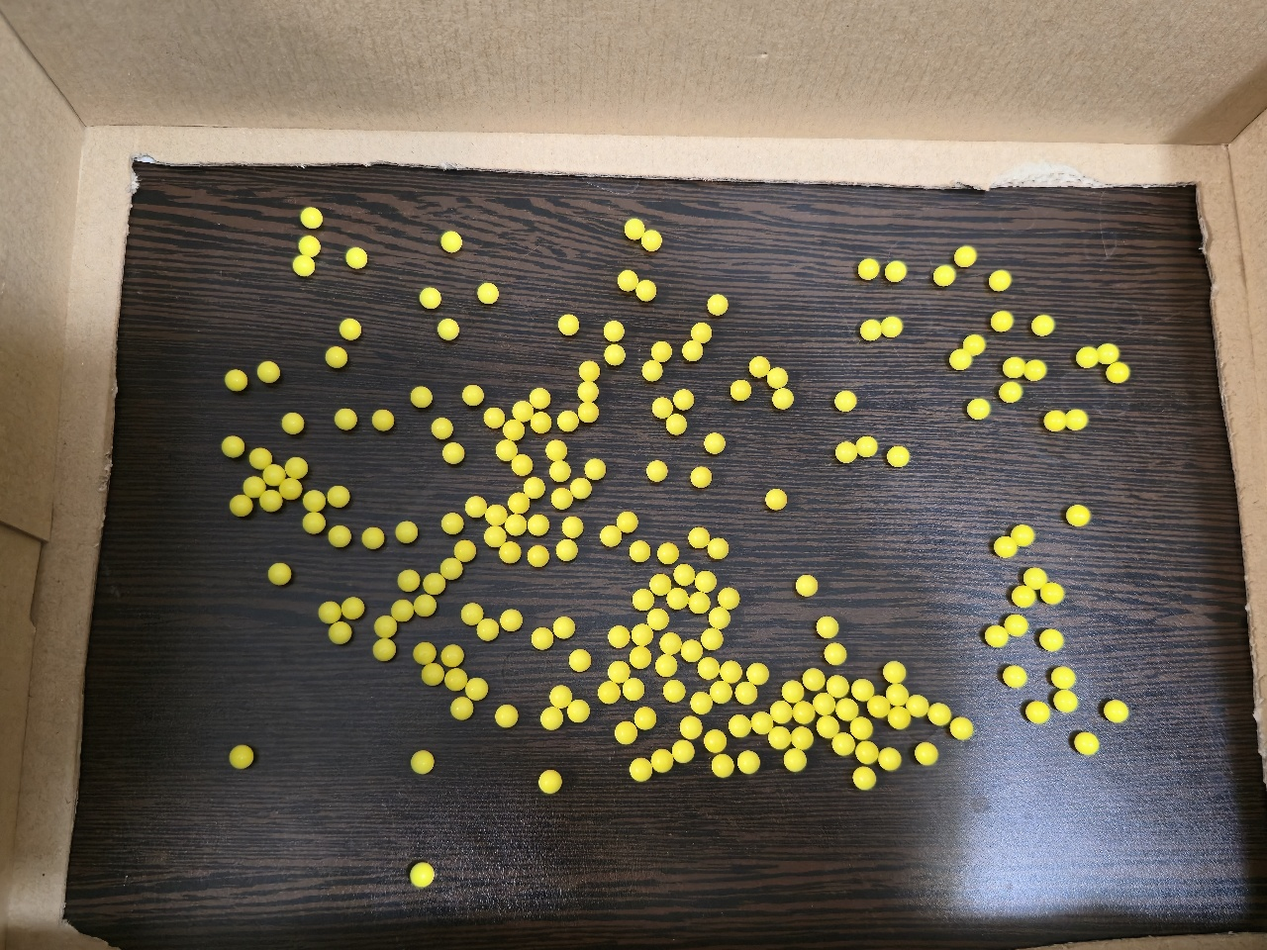yellow_bead: (955, 339, 981, 364), (1081, 348, 1115, 362), (1049, 414, 1083, 426), (416, 868, 429, 883), (1059, 695, 1073, 708), (1056, 672, 1070, 685), (1009, 670, 1022, 684), (1028, 573, 1043, 585), (416, 756, 429, 769), (920, 748, 933, 761), (860, 746, 873, 759), (1081, 737, 1094, 750), (773, 731, 786, 744), (855, 722, 868, 735), (733, 719, 746, 732), (1010, 619, 1023, 632), (789, 753, 801, 767), (1109, 706, 1123, 718), (1045, 634, 1059, 646), (1017, 591, 1031, 603), (999, 541, 1013, 553), (543, 777, 556, 789), (858, 773, 871, 785), (634, 764, 646, 777), (717, 759, 729, 772), (742, 756, 754, 769), (883, 753, 896, 765), (677, 745, 689, 758), (837, 738, 850, 750), (956, 722, 968, 735), (822, 720, 834, 733), (545, 712, 557, 725), (797, 707, 810, 719), (775, 706, 788, 718), (840, 704, 853, 716), (911, 700, 924, 712), (891, 689, 904, 701), (715, 686, 727, 699), (603, 686, 615, 699), (856, 684, 869, 696), (831, 681, 844, 693), (449, 674, 462, 686), (889, 666, 901, 679), (396, 605, 409, 617), (932, 709, 946, 720), (990, 631, 1004, 642), (796, 732, 808, 744), (620, 727, 632, 739), (756, 717, 768, 729), (818, 699, 830, 711), (554, 691, 566, 703), (787, 686, 799, 698), (668, 685, 680, 697), (470, 683, 482, 695), (808, 674, 820, 686), (751, 668, 763, 680), (613, 666, 625, 678), (660, 659, 672, 671), (829, 648, 841, 660), (378, 643, 390, 655), (379, 620, 391, 632), (489, 530, 501, 542), (710, 734, 721, 747), (685, 721, 696, 734), (455, 703, 468, 714), (740, 687, 751, 700), (628, 683, 639, 696), (636, 628, 647, 641), (419, 600, 432, 611), (892, 451, 905, 462), (860, 441, 873, 452), (884, 321, 897, 332), (1036, 320, 1049, 331), (994, 275, 1007, 286), (938, 270, 951, 281), (304, 240, 315, 253), (656, 755, 667, 767), (572, 706, 584, 717), (873, 701, 885, 712), (427, 669, 439, 680), (703, 663, 715, 674), (419, 648, 431, 659), (686, 645, 697, 657), (665, 638, 676, 650), (706, 633, 717, 645), (334, 626, 345, 638), (482, 623, 493, 635), (822, 621, 833, 633), (714, 612, 725, 624), (346, 603, 358, 614), (694, 597, 705, 609), (637, 594, 648, 606), (672, 593, 683, 605), (654, 580, 666, 591), (700, 576, 711, 588), (679, 569, 690, 581), (273, 568, 285, 579), (561, 544, 572, 556), (490, 510, 502, 521), (308, 495, 320, 506), (268, 470, 280, 481), (254, 453, 266, 464), (501, 444, 512, 456), (1005, 386, 1017, 397), (262, 366, 274, 377), (1008, 362, 1020, 373), (863, 263, 875, 274), (298, 259, 309, 271), (960, 250, 972, 261), (306, 212, 317, 224), (866, 325, 879, 335), (996, 316, 1009, 326), (1031, 709, 1045, 718), (1016, 529, 1030, 538), (501, 711, 512, 722), (696, 698, 707, 709), (574, 655, 585, 666), (634, 652, 645, 663), (536, 633, 547, 644), (613, 631, 624, 642), (558, 622, 569, 633), (652, 614, 663, 625), (324, 607, 335, 618), (801, 580, 812, 591), (403, 575, 414, 586), (445, 563, 456, 574), (662, 548, 673, 559), (367, 532, 378, 543), (605, 530, 616, 541), (401, 526, 412, 537), (1071, 510, 1082, 521), (470, 502, 481, 513), (265, 495, 276, 506), (248, 482, 259, 493), (447, 448, 458, 459), (562, 416, 573, 427), (377, 415, 388, 426), (777, 393, 788, 404), (416, 392, 427, 403), (231, 375, 242, 386), (1030, 364, 1041, 375), (442, 324, 453, 335), (236, 751, 246, 763), (894, 712, 904, 724), (505, 615, 517, 625), (724, 593, 734, 605), (429, 578, 439, 590), (334, 530, 344, 542), (510, 520, 522, 530), (308, 518, 320, 528), (554, 465, 564, 477), (290, 462, 302, 472), (840, 447, 852, 457), (227, 441, 239, 451), (687, 344, 697, 356), (890, 266, 902, 276), (639, 713, 649, 724), (725, 666, 735, 677), (447, 650, 458, 660), (466, 609, 477, 619), (634, 546, 644, 557), (713, 543, 723, 554), (694, 532, 704, 543), (567, 522, 578, 532), (446, 519, 457, 529), (513, 498, 524, 508), (556, 494, 566, 505), (333, 491, 343, 502), (529, 483, 539, 494), (590, 464, 600, 475), (551, 445, 561, 456), (437, 423, 447, 434), (671, 419, 682, 429), (287, 418, 298, 428), (340, 414, 350, 425), (518, 406, 528, 417), (657, 403, 667, 414), (839, 396, 850, 406), (467, 391, 478, 401), (583, 386, 593, 397), (735, 385, 745, 396), (772, 372, 782, 383), (584, 366, 594, 377), (647, 365, 657, 376), (331, 352, 341, 363), (610, 349, 620, 360), (344, 324, 355, 334), (425, 293, 436, 303), (483, 288, 493, 299), (623, 275, 634, 285), (351, 252, 361, 263), (284, 483, 296, 492), (972, 403, 981, 415), (1050, 589, 1060, 599), (459, 546, 469, 556), (533, 520, 543, 530), (622, 517, 632, 527), (575, 484, 585, 494), (696, 472, 706, 482), (651, 466, 661, 476), (517, 460, 527, 470), (710, 438, 720, 448), (489, 413, 499, 423), (678, 395, 688, 405), (754, 362, 764, 372), (656, 346, 666, 356), (696, 328, 706, 338), (609, 326, 619, 336), (563, 320, 573, 330), (640, 285, 650, 295), (646, 235, 656, 245), (533, 551, 542, 562), (504, 547, 513, 558), (508, 425, 519, 434), (583, 407, 592, 418), (535, 393, 544, 404), (630, 223, 639, 234), (771, 494, 780, 504), (446, 237, 456, 246), (1112, 370, 1124, 377), (536, 418, 545, 427), (713, 300, 722, 309), (236, 501, 246, 509)
